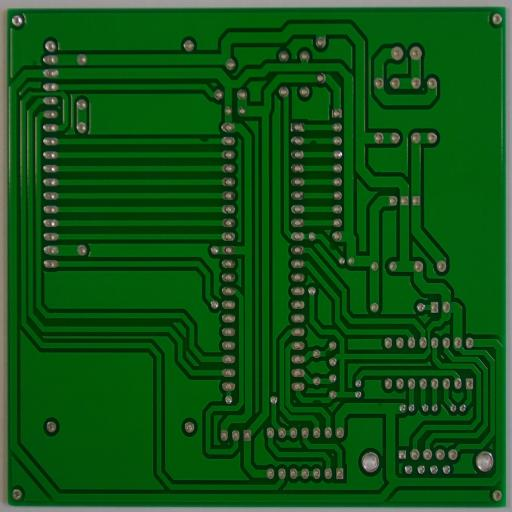mouse_bite: (197, 135, 212, 145), (327, 240, 337, 254), (310, 395, 322, 406), (307, 137, 319, 147), (323, 348, 332, 358)
